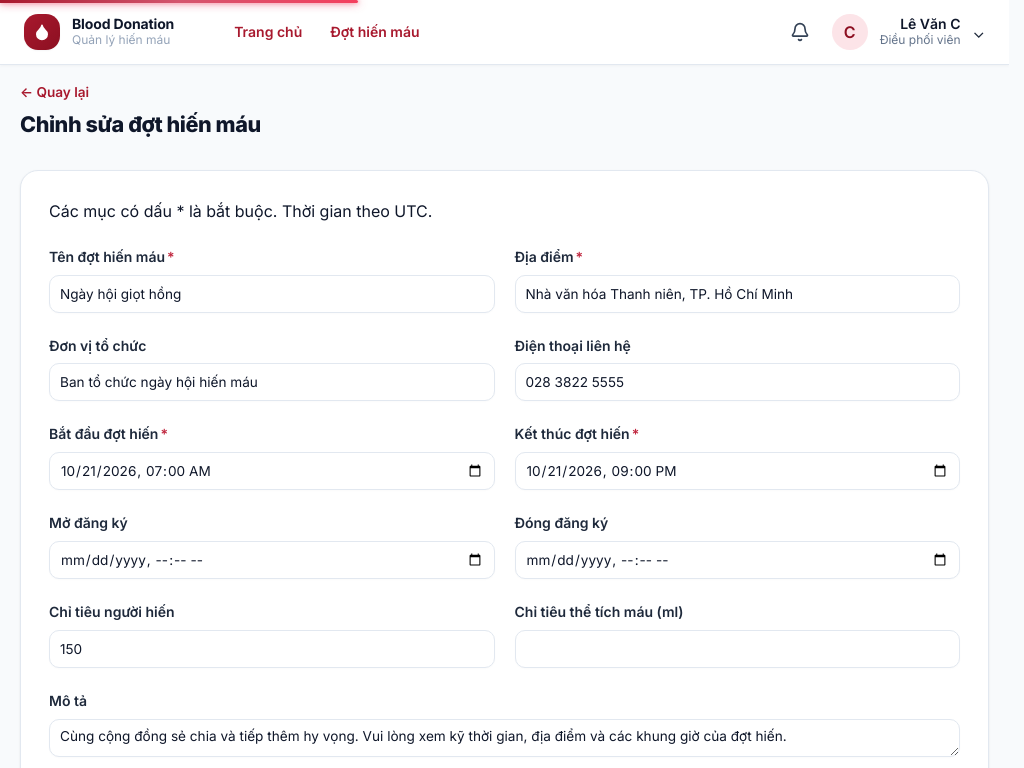
Campaign forms and actions › prefills edit, keeps a server-invalid draft, then saves
Replace the text in the field labelled "Tên đợt hiến máu*" with "Tên mới" at (272, 294), box [49, 275, 494, 313]
(page scrolled)
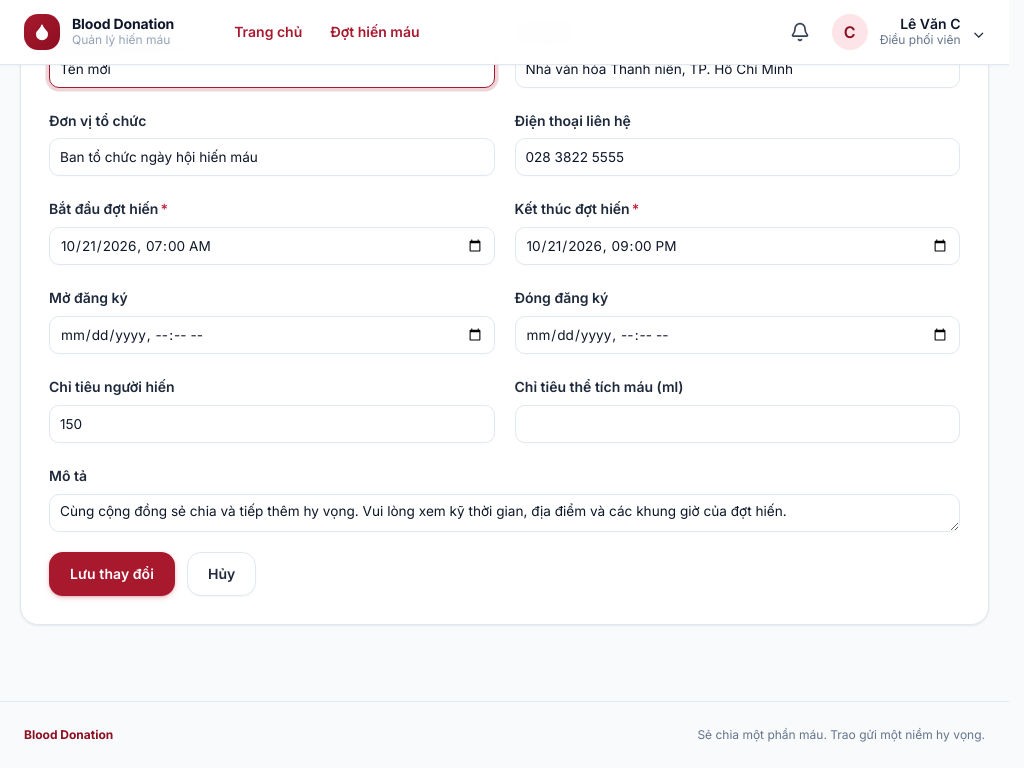
Click the button "Lưu thay đổi" at (112, 574), box [49, 552, 175, 596]
(page scrolled)
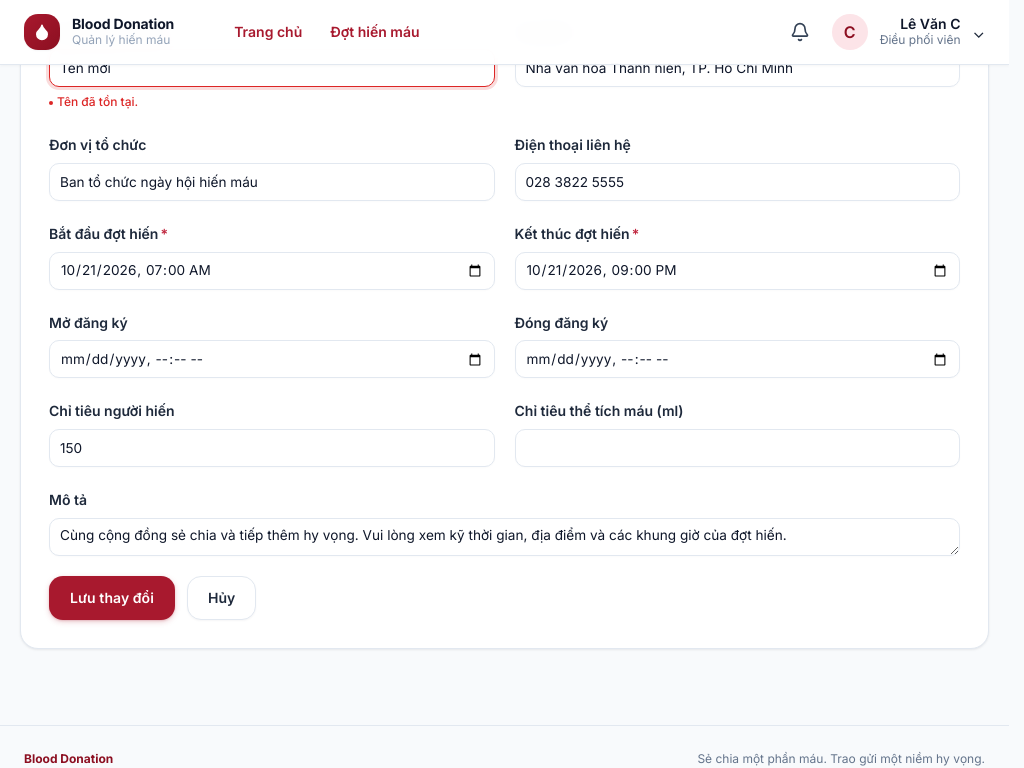
Expected: the text "Tên đã tồn tại." is shown, [57, 94, 138, 109]
Click the button "Lưu thay đổi" at (112, 598), box [49, 576, 175, 620]
(page scrolled)
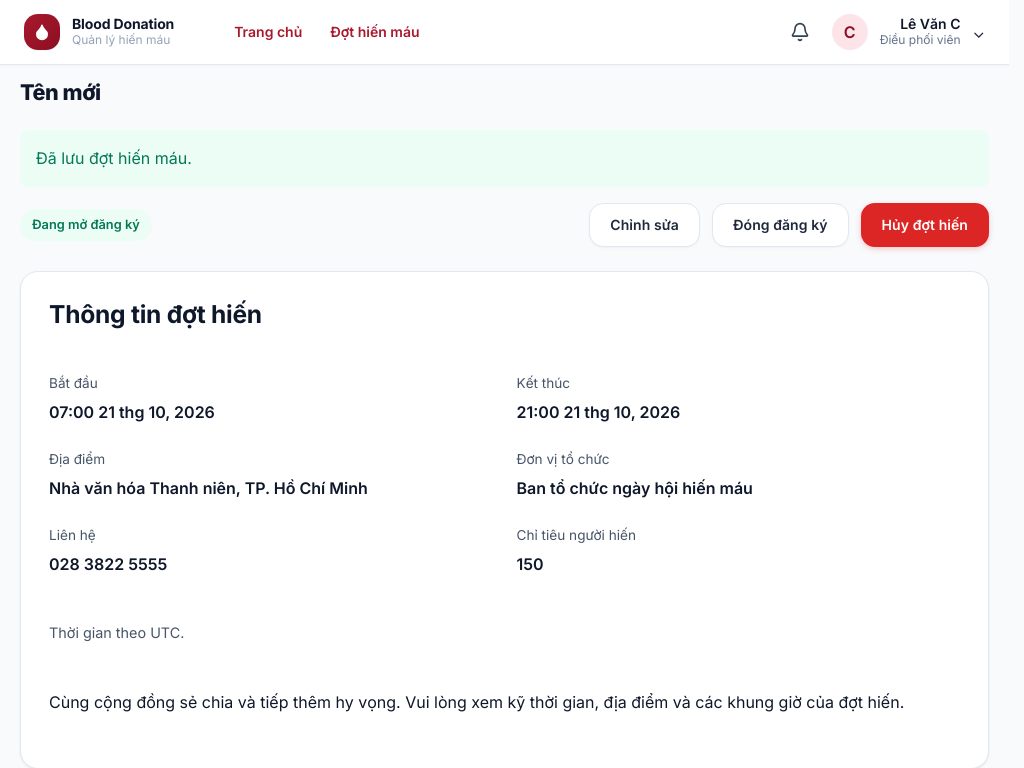
Expected: the text "Đã lưu đợt hiến máu." is shown, [20, 130, 989, 187]
